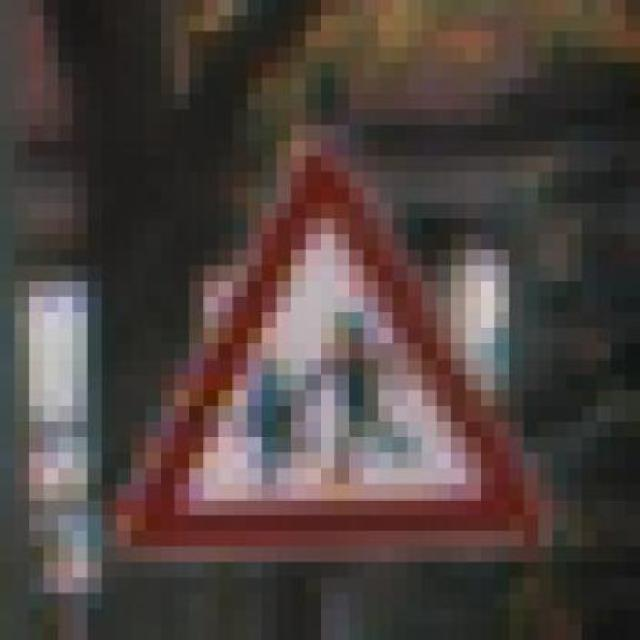Beware of children: (58, 109, 582, 562)
